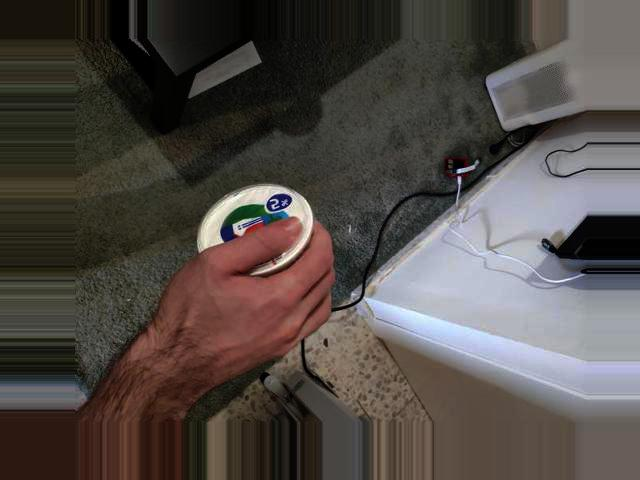cotage: (197, 182, 315, 286)
